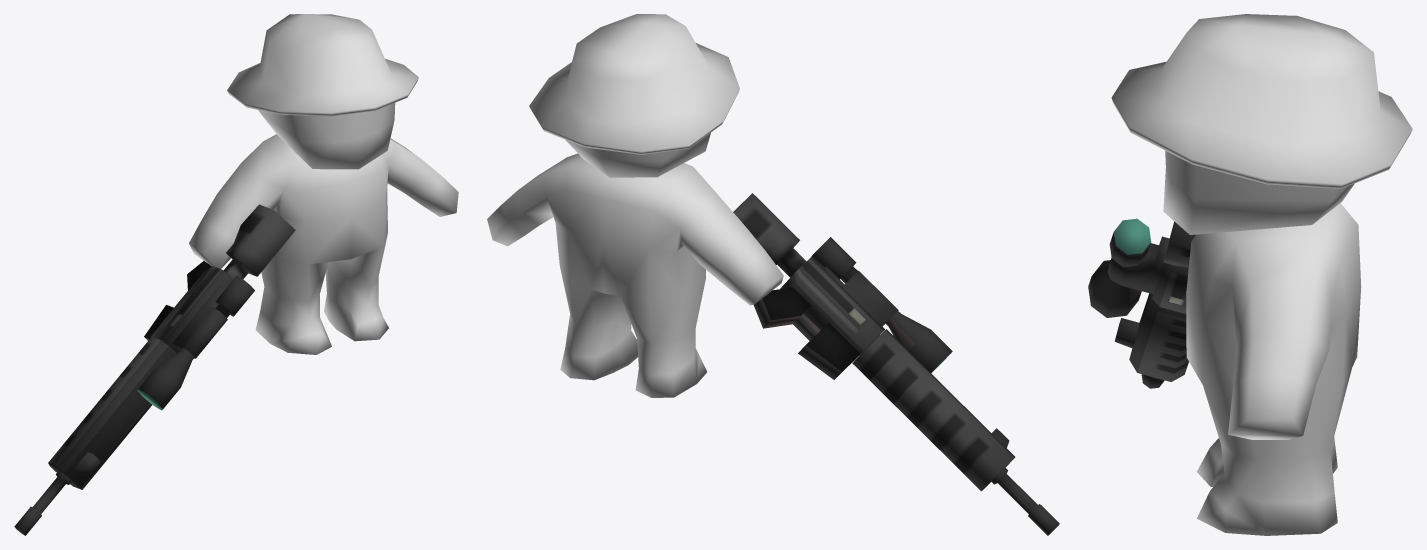
Rendered from SniperSurvivorPVP.fbx.
The picture shows the model from 3 angles, left to right: view 1: azimuth 30°, elevation 25°; view 2: azimuth 150°, elevation 25°; view 3: azimuth 270°, elevation 25°; orthographic projection. The views are drawn at different scales.
Visible parts, largest first — view 1: SniperModel, Cube_5; view 2: SniperModel, Cube_5; view 3: SniperModel, Cube_5.
Part boxes in pixels (left/top/right/bottom): SniperModel: left=189, top=14, right=458, bottom=354; Cube_5: left=14, top=204, right=295, bottom=535; SniperModel: left=487, top=14, right=783, bottom=397; Cube_5: left=733, top=193, right=1059, bottom=535; SniperModel: left=1111, top=14, right=1412, bottom=535; Cube_5: left=1088, top=218, right=1195, bottom=388.
Bounding box in the file's own units: 1.67 × 1.36 × 0.6515.
